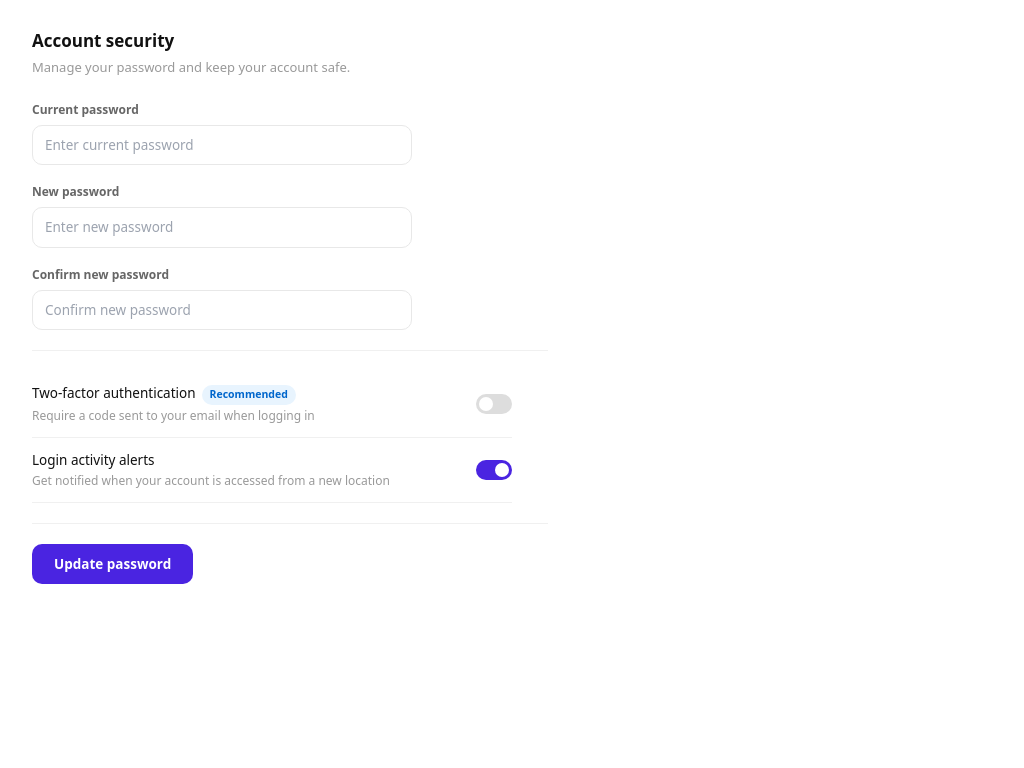
SecuritySection › login activity alerts toggle › saves the new value and shows a success toast
The image size is (1024, 768).
Click the checkbox in the row of "Login activity alerts": (494, 470) x1=476 y1=460 x2=512 y2=480
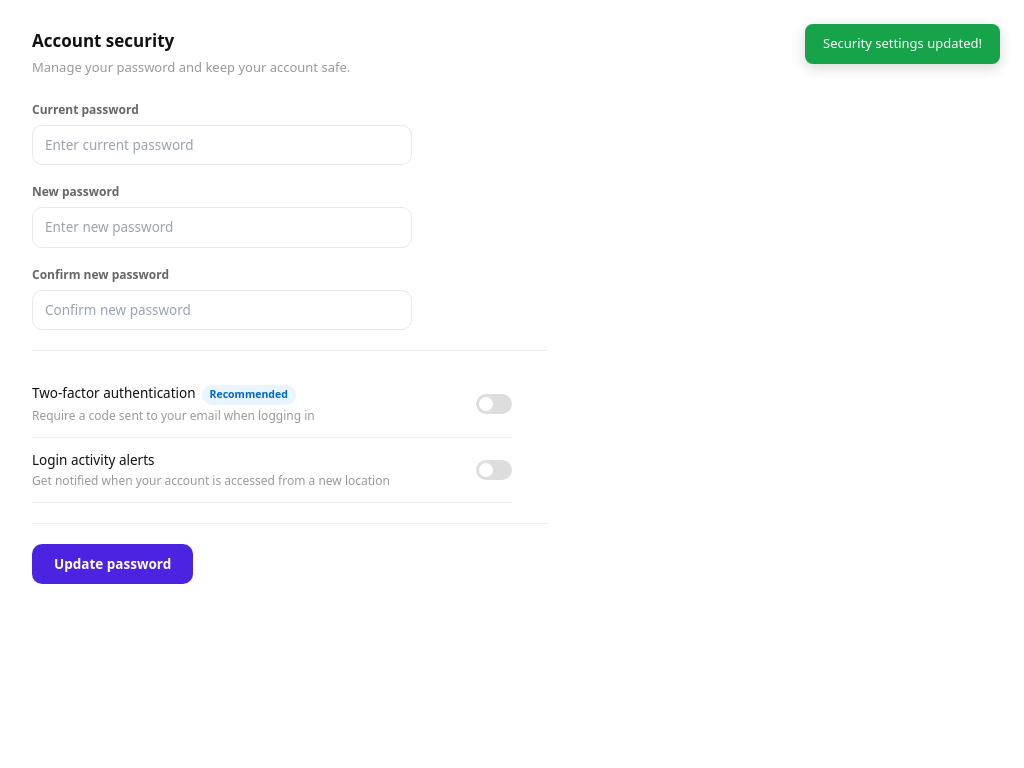
Expected: the checkbox in the row of "Login activity alerts" is not checked, x1=476 y1=460 x2=512 y2=480
Expected: the text "Security settings updated!" is shown, x1=805 y1=24 x2=1000 y2=64
